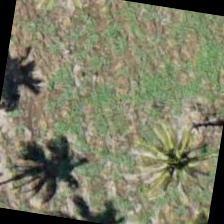Kelapa_Sawit: (123, 90, 223, 195), (138, 184, 212, 223)
